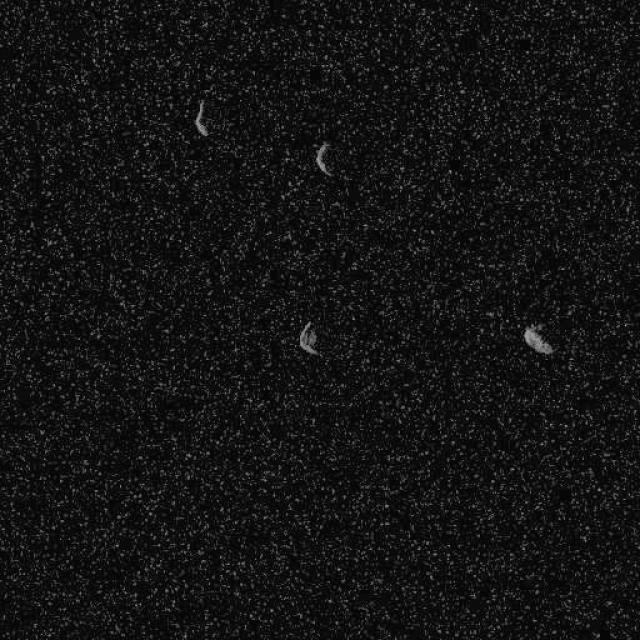D2: (521, 323, 554, 355), (298, 320, 322, 356), (314, 140, 334, 178), (192, 98, 210, 136)
